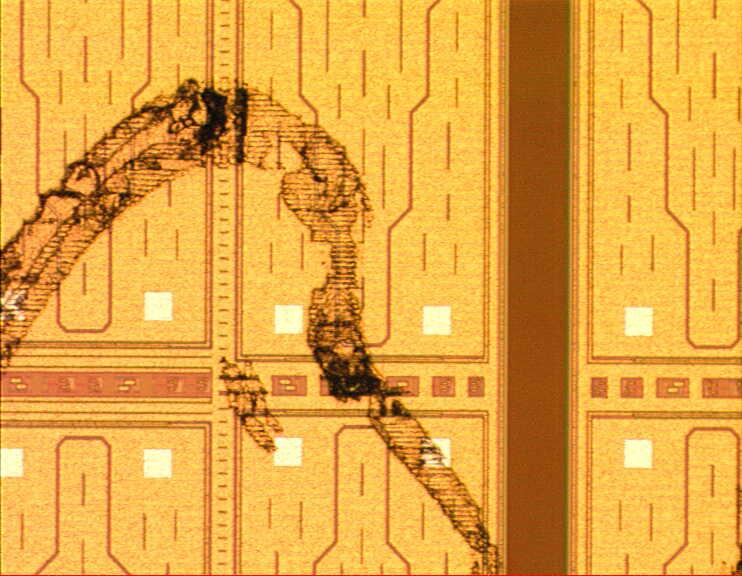SCRATCH: (1, 78, 505, 576)
